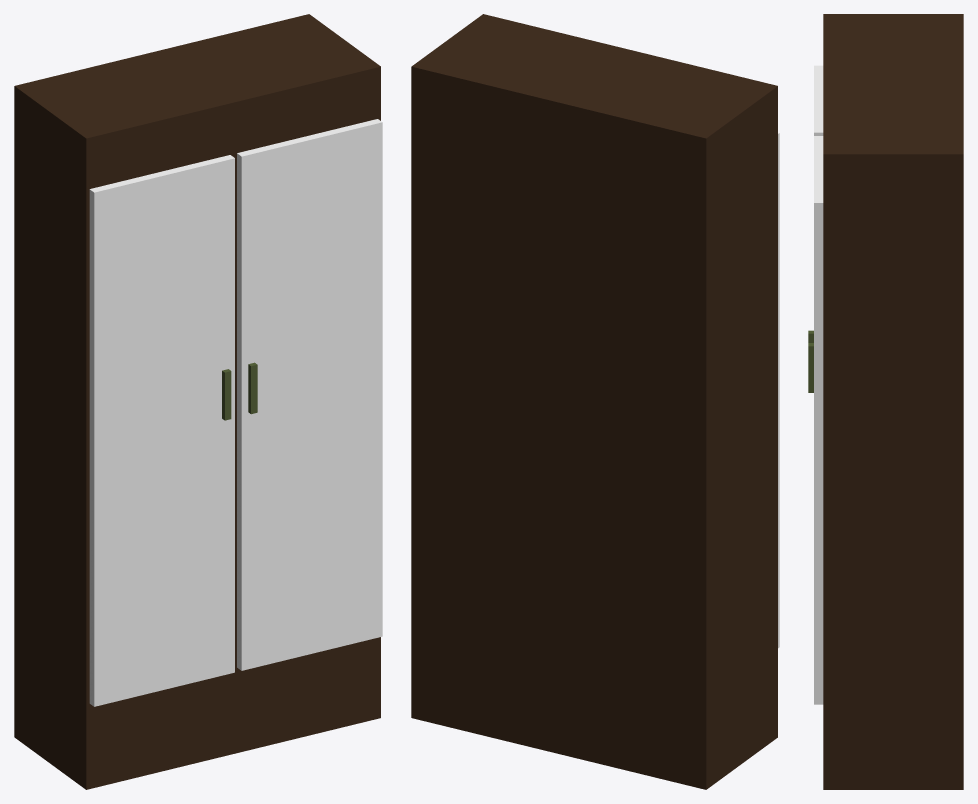
Rendered from pantry-lite.glb.
3 renders of one model, left to right at view 1: azimuth 30°, elevation 25°; view 2: azimuth 150°, elevation 25°; view 3: azimuth 270°, elevation 25°, orthographic. The views are drawn at different scales.
Parts seen in each view (by area): view 1: material-1-door, material-0-body, material-2-metal; view 2: material-0-body, material-1-door; view 3: material-0-body, material-1-door, material-2-metal.
Part boxes in pixels (x1,y1,x2,y2): material-1-door: [89, 119, 382, 706]; material-0-body: [14, 14, 380, 789]; material-2-metal: [222, 362, 257, 420]; material-0-body: [411, 14, 777, 789]; material-1-door: [778, 133, 779, 648]; material-0-body: [823, 14, 963, 789]; material-1-door: [814, 65, 823, 704]; material-2-metal: [808, 330, 813, 392].
Size of the model in its own units: 0.9 by 1.9 by 0.42.
